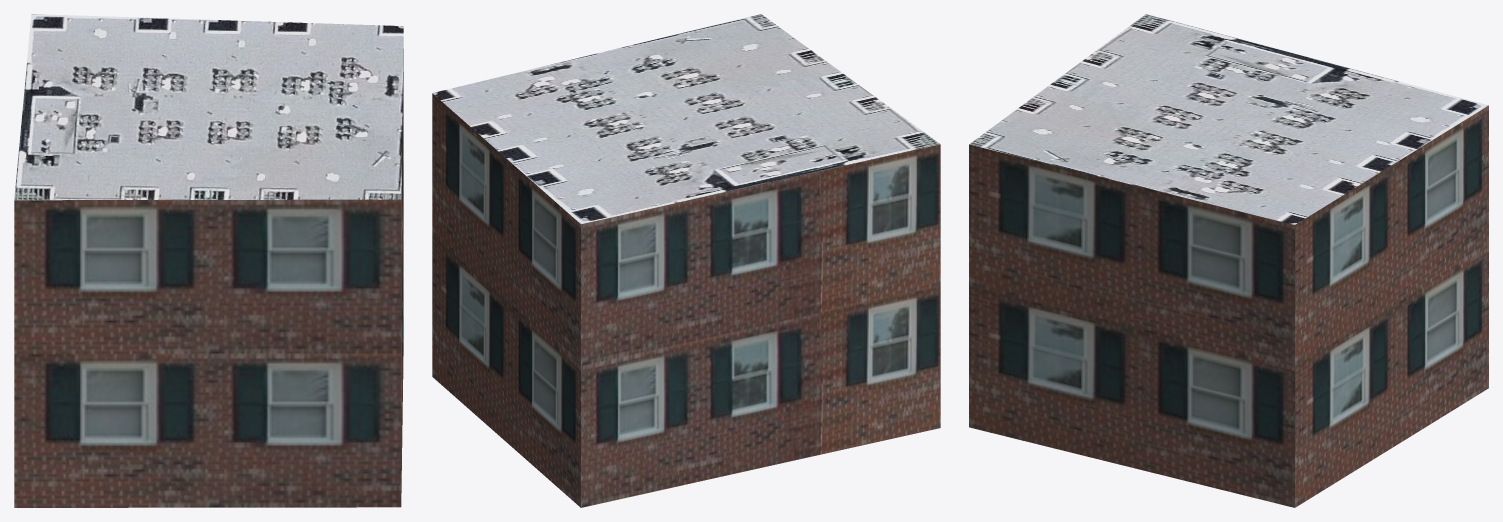
The model's file is ResTex__3093.fbx.
The picture shows the model from 3 angles, left to right: view 1: azimuth 30°, elevation 25°; view 2: azimuth 150°, elevation 25°; view 3: azimuth 270°, elevation 25°; orthographic projection. The views are drawn at different scales.
Visible parts, largest first — view 1: CityEngineMaterial_14_m, CityEngineMaterial_m; view 2: CityEngineMaterial_14_m, CityEngineMaterial_m; view 3: CityEngineMaterial_14_m, CityEngineMaterial_m.
Part boxes in pixels (x1=…): CityEngineMaterial_14_m: x1=14, y1=49, x2=403, y2=507; CityEngineMaterial_m: x1=14, y1=14, x2=403, y2=200; CityEngineMaterial_14_m: x1=432, y1=93, x2=940, y2=507; CityEngineMaterial_m: x1=432, y1=14, x2=939, y2=224; CityEngineMaterial_14_m: x1=969, y1=105, x2=1488, y2=507; CityEngineMaterial_m: x1=969, y1=14, x2=1488, y2=224.
Size of the model in its own units: 9.6 by 6 by 9.99.
2 materials, 2 textured.
